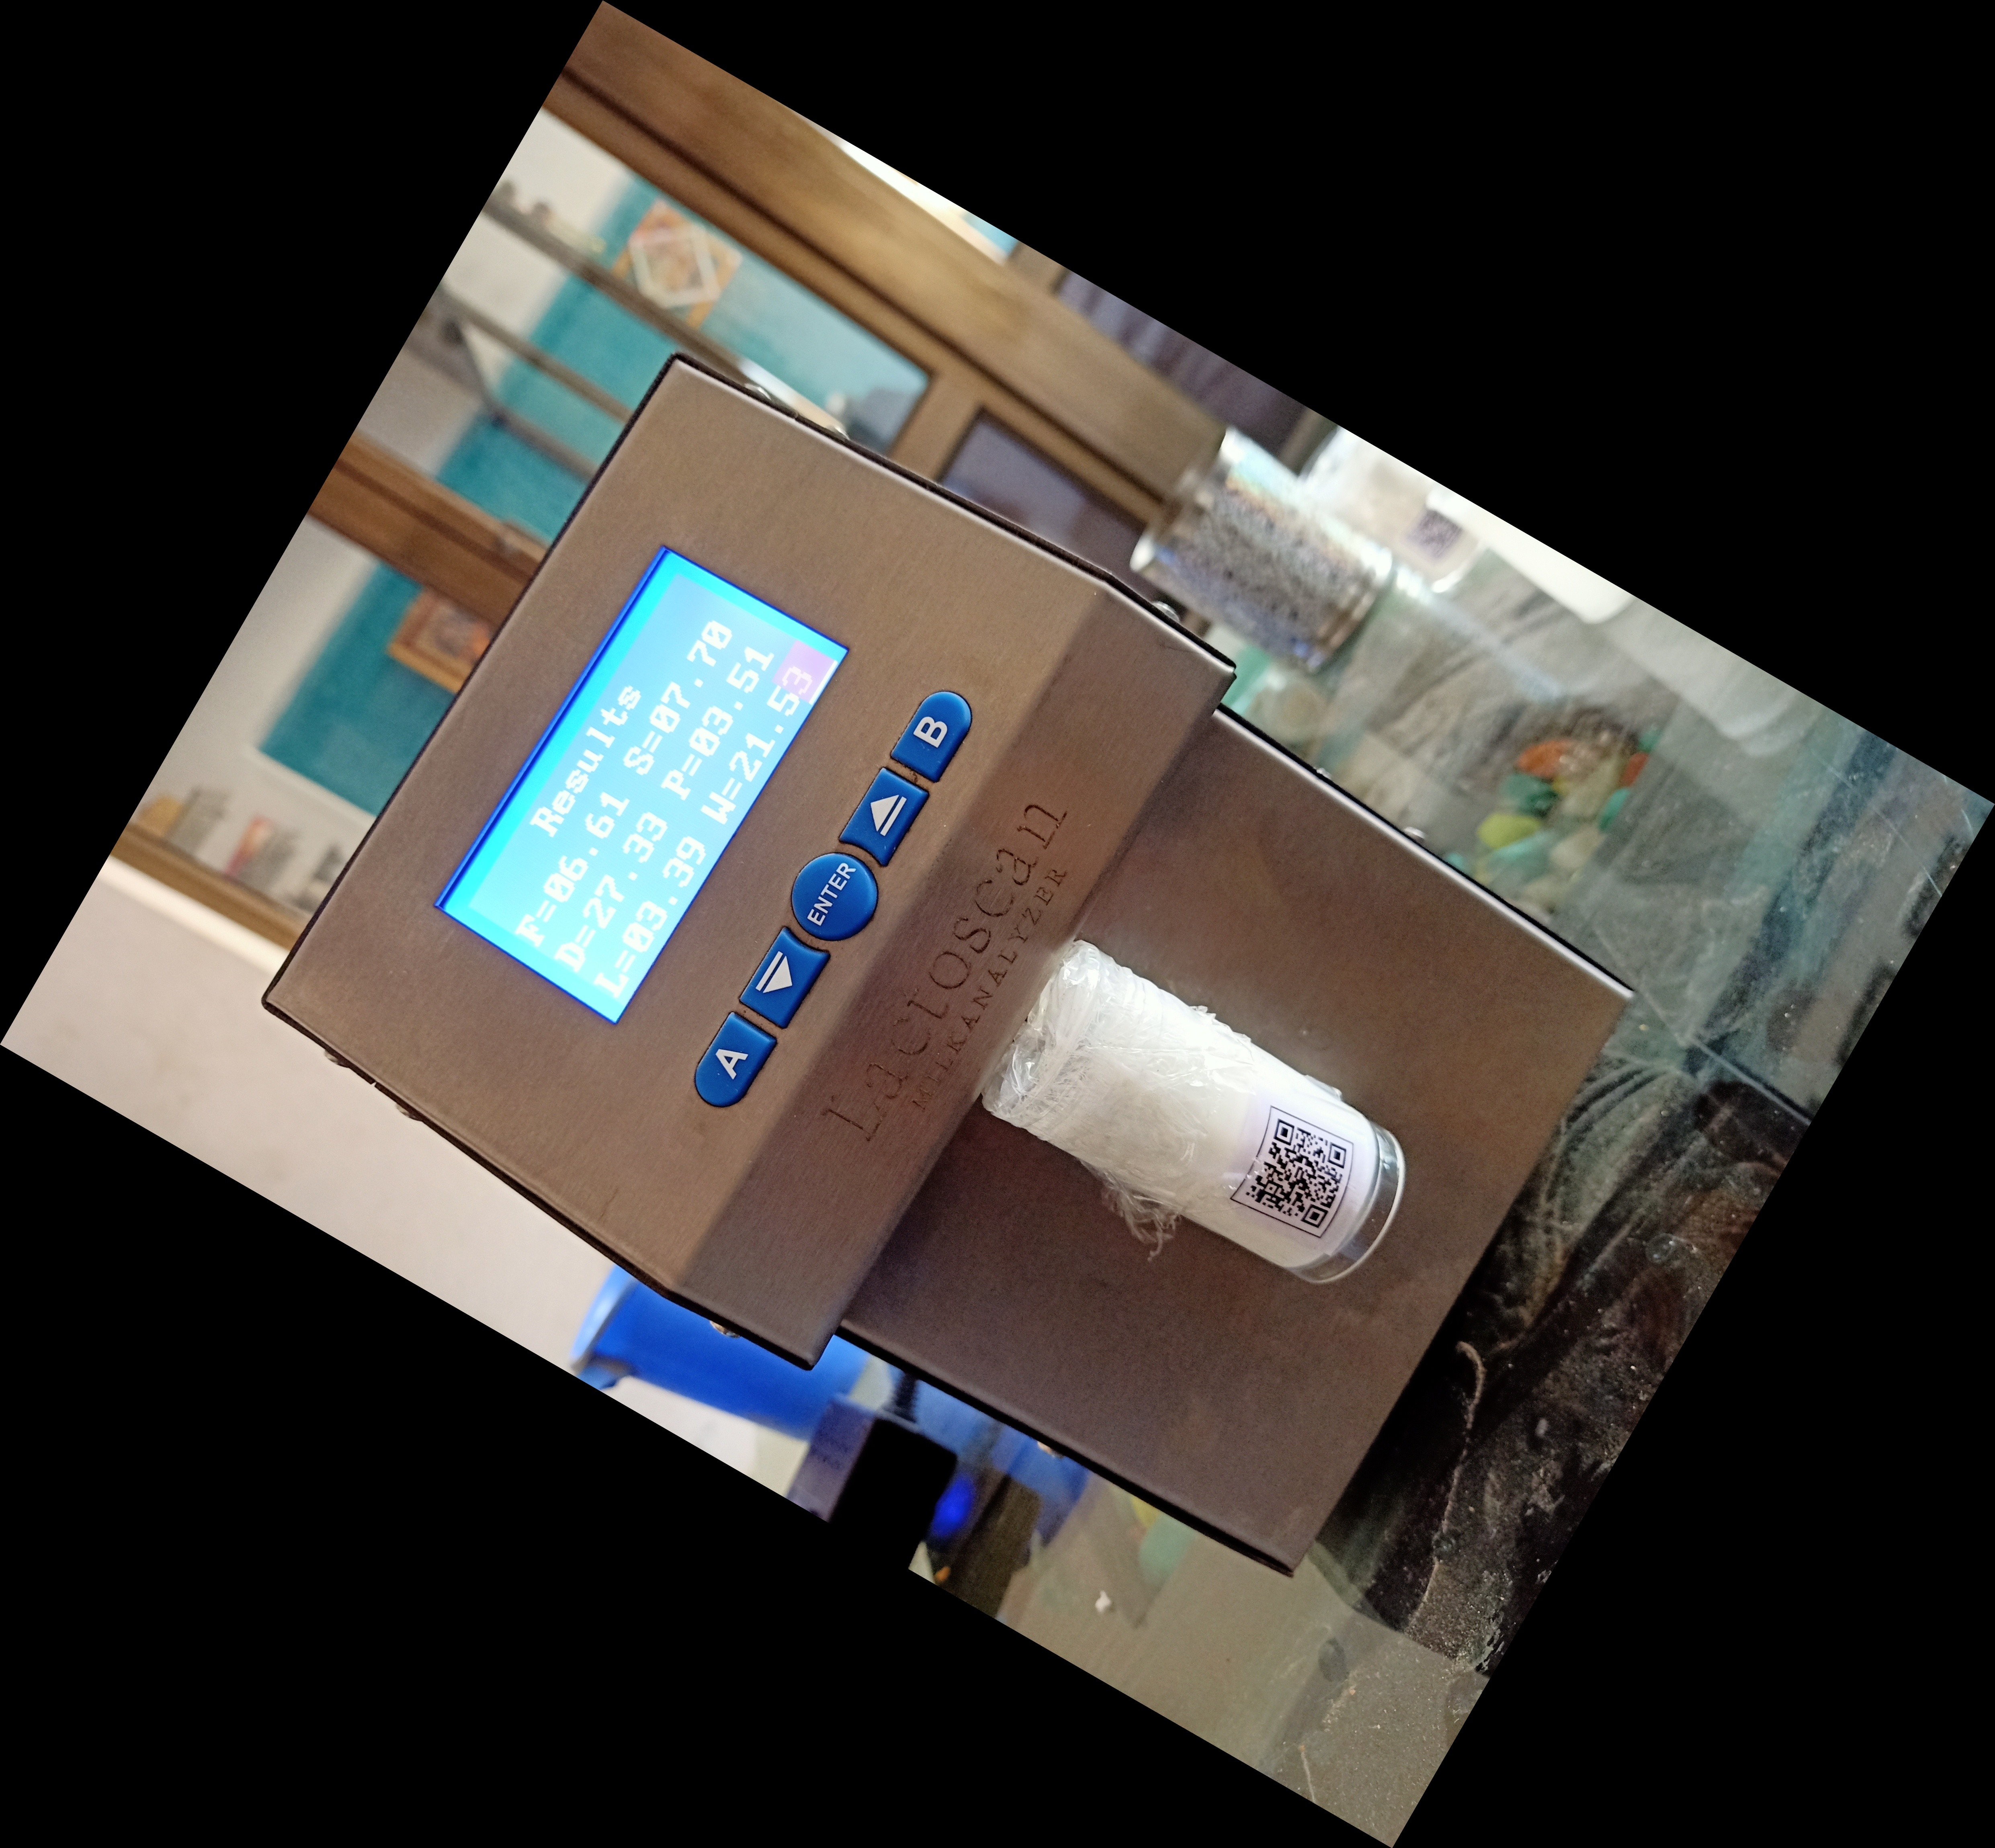lcd: (422, 508, 878, 1041)
qr: (1216, 1107, 1361, 1271)
